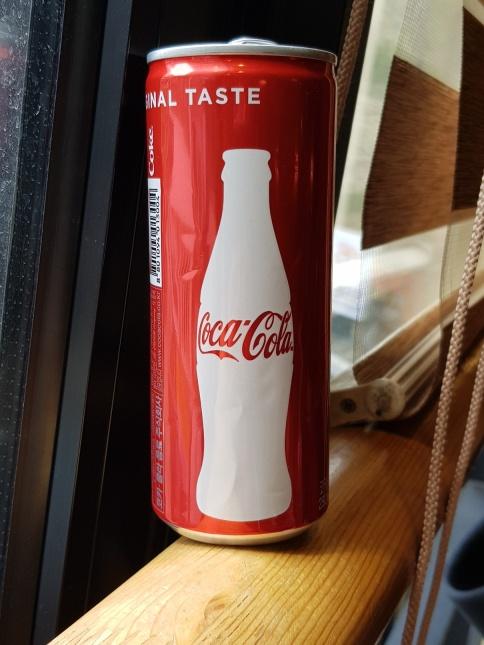Can: (137, 33, 337, 543)
